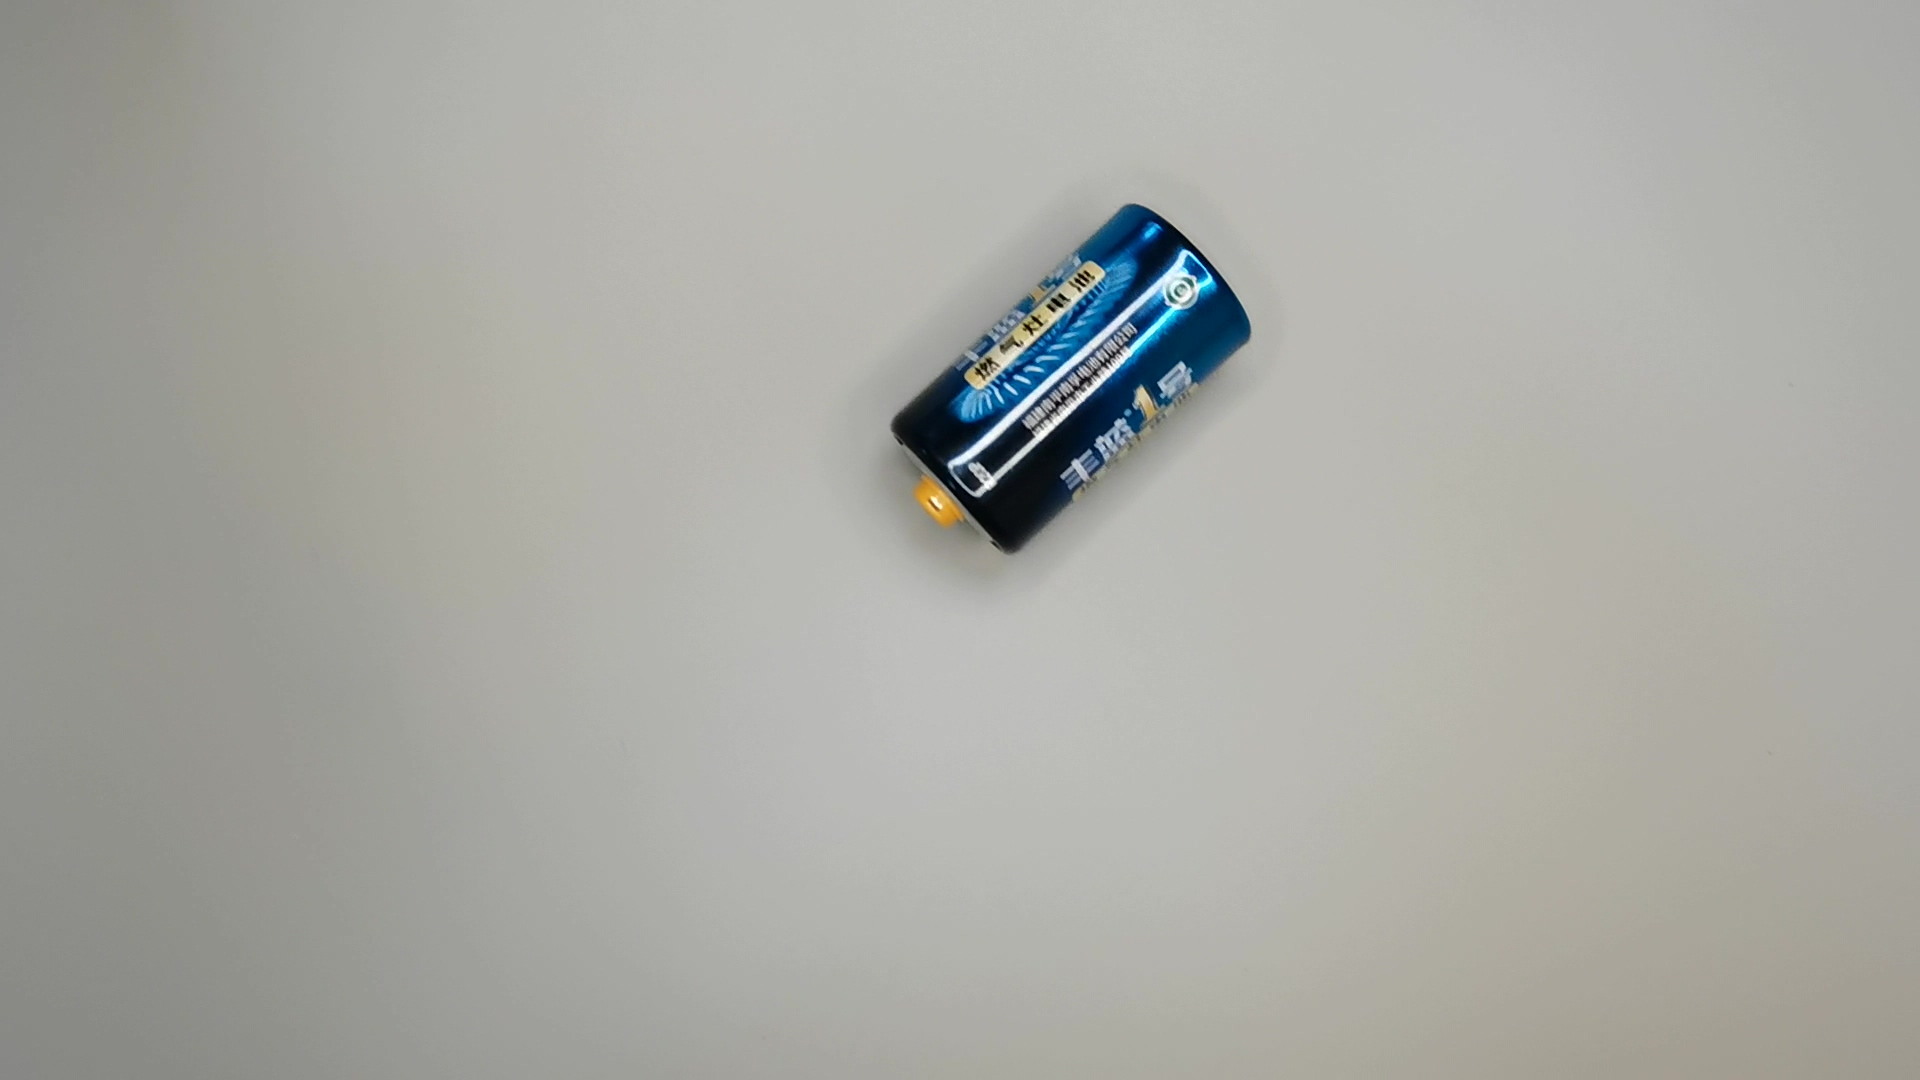battery: (885, 202, 1259, 560)
